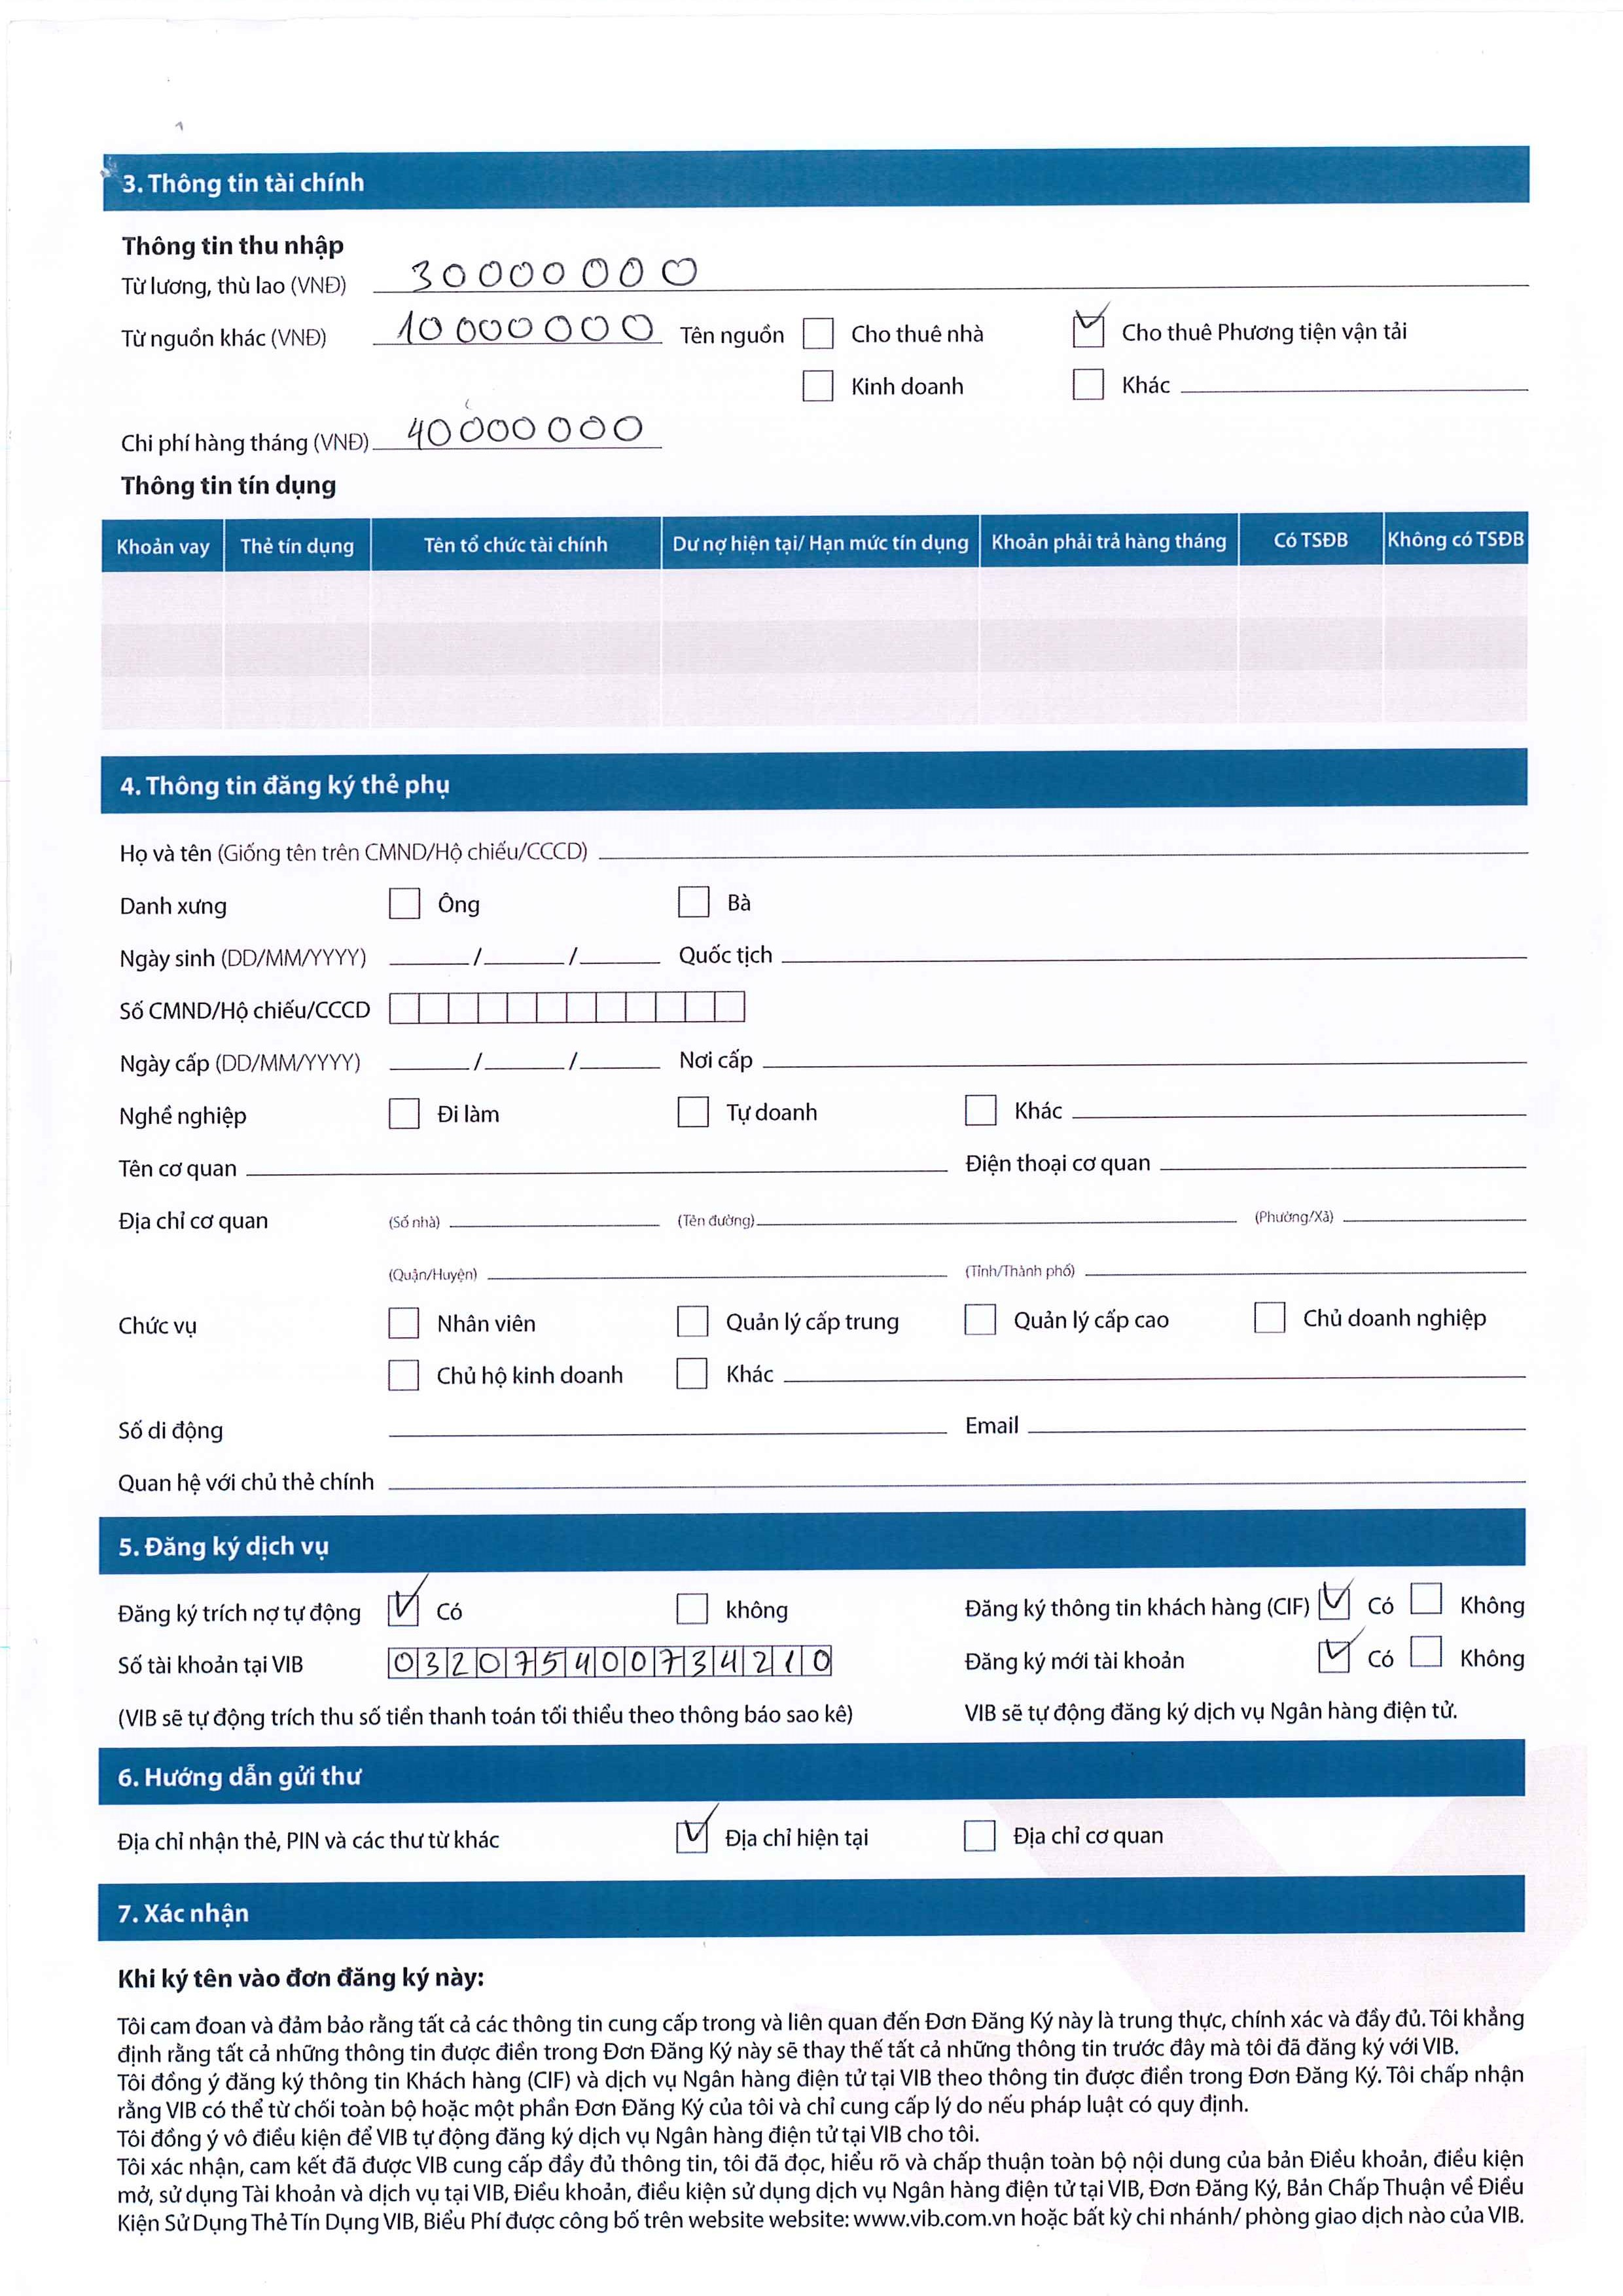box: (956, 1086, 1006, 1131), (956, 1815, 1005, 1860), (1245, 1295, 1293, 1340), (669, 1816, 717, 1862), (1312, 1635, 1358, 1681), (796, 313, 840, 360), (1314, 1579, 1356, 1628), (671, 1089, 717, 1133), (667, 1586, 711, 1632), (1405, 1630, 1449, 1676), (671, 880, 713, 928), (1066, 362, 1110, 406), (385, 1091, 427, 1137), (673, 1300, 715, 1346), (1070, 311, 1112, 355), (379, 884, 422, 928), (671, 1353, 713, 1397), (383, 1588, 423, 1634), (1405, 1578, 1451, 1618), (383, 1303, 425, 1346), (801, 362, 845, 402), (383, 1356, 423, 1397), (961, 1298, 999, 1340)
